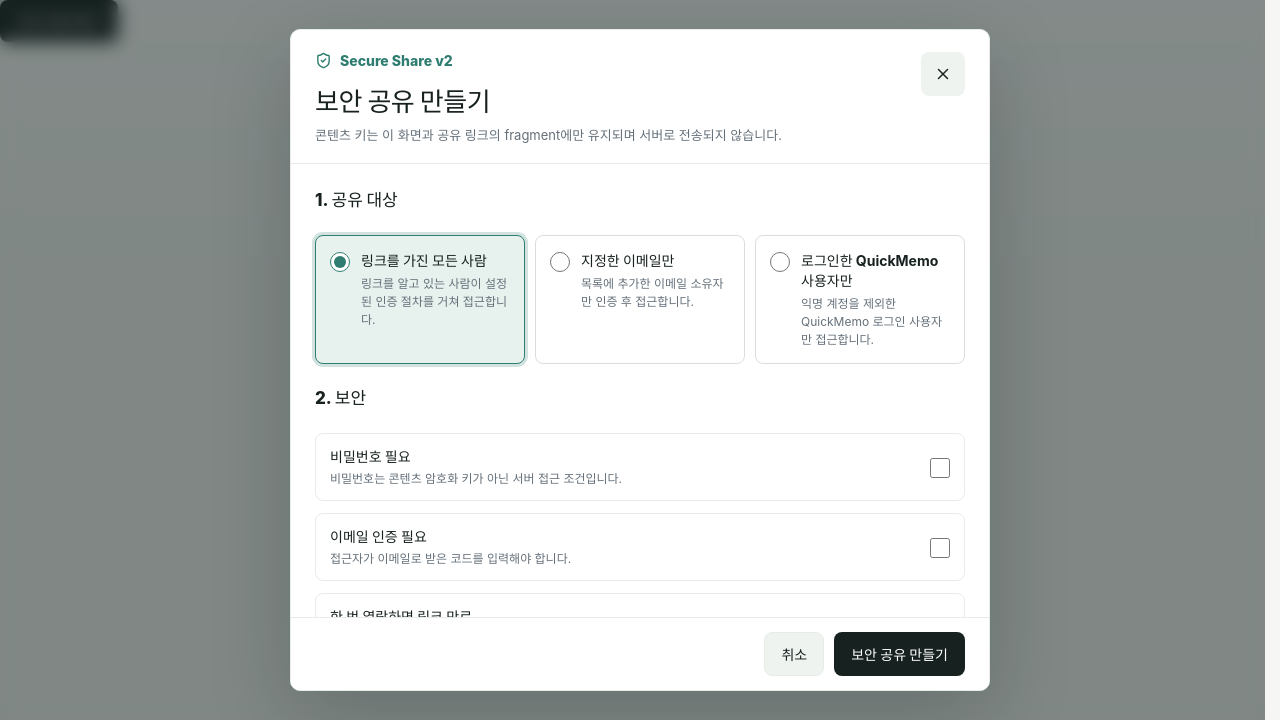
Test: SecureShareSettingsModal › keeps a caller-sanitized typed save message
Click the button "보안 공유 만들기" at (900, 654), box 834,632 -> 965,676
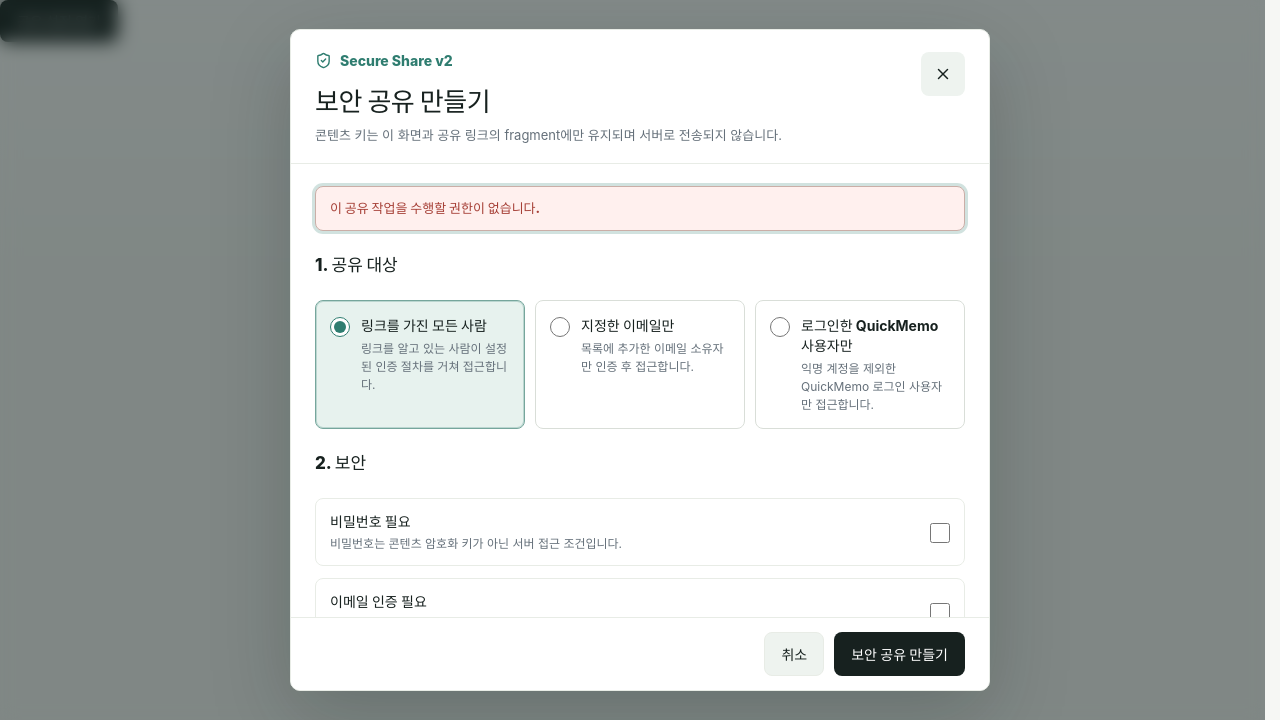
Expected: the message reads "이 공유 작업을 수행할 권한이 없습니다.", 330,200 -> 540,216
